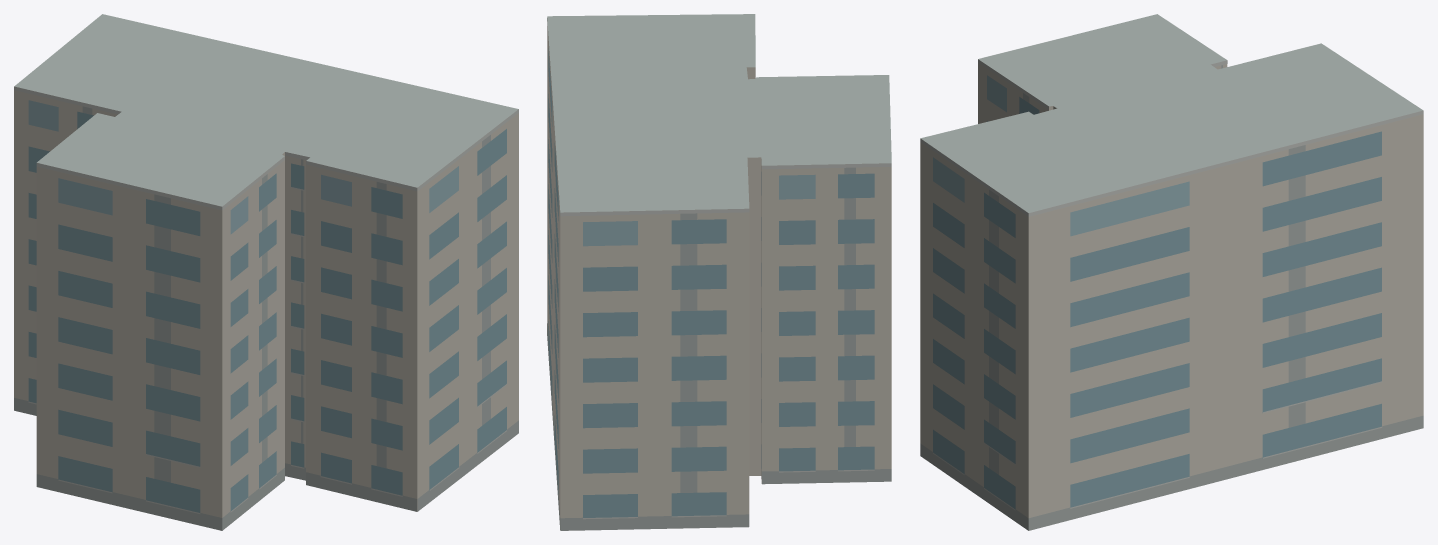
Rendered from survey-upis-32838874.glb.
The picture shows the model from 3 angles, left to right: view 1: azimuth 30°, elevation 25°; view 2: azimuth 150°, elevation 25°; view 3: azimuth 270°, elevation 25°; orthographic projection. The views are drawn at different scales.
Visible parts, largest first — view 1: survey-upis-32838874.tmp; view 2: survey-upis-32838874.tmp; view 3: survey-upis-32838874.tmp.
Part boxes in pixels (bbox=[...]): survey-upis-32838874.tmp: bbox=[14, 14, 518, 530]; survey-upis-32838874.tmp: bbox=[547, 14, 891, 530]; survey-upis-32838874.tmp: bbox=[920, 14, 1423, 530].
Bounding box in the file's own units: 28.25 × 21 × 30.16.
